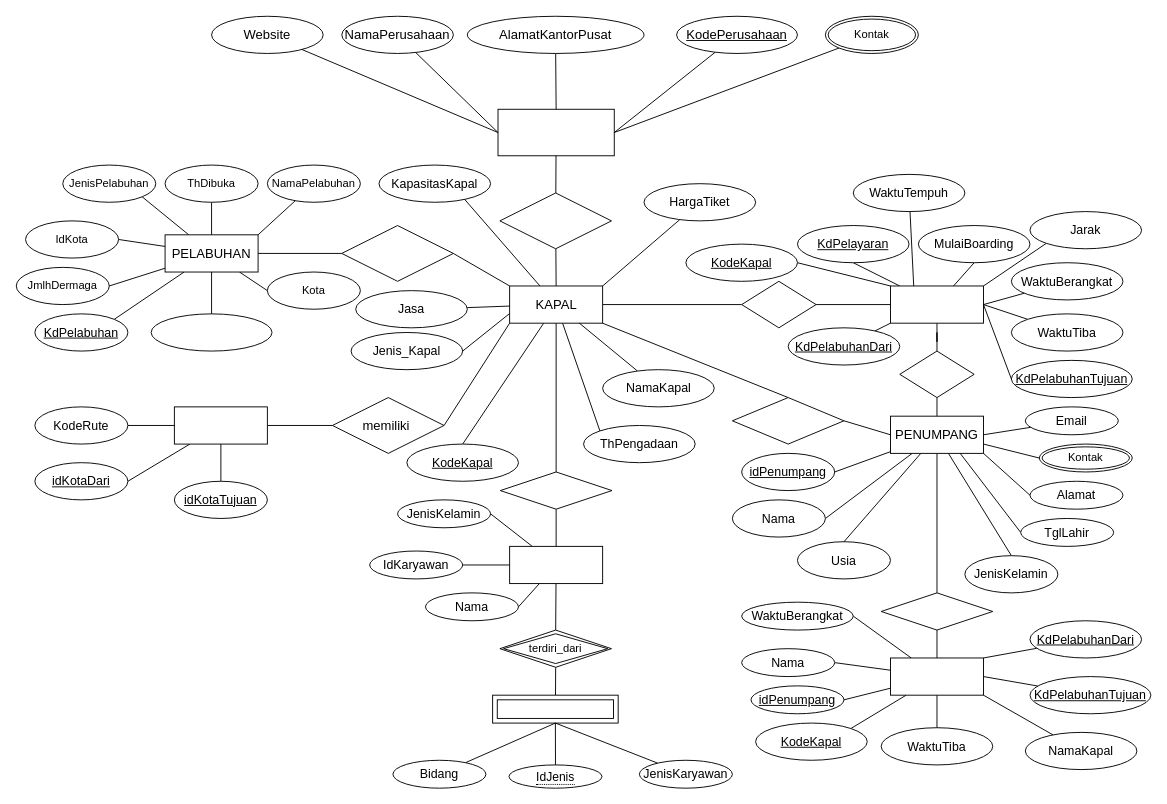
This 1167x804 diagram has some shape labels left out. The shapes that lost their labels are listed below. From the top down, each one's centre as x and y in pixels, then its label:
the point at 555,132: PERUSAHAAN
the point at 555,220: menaungi
the point at 397,253: bertujuan
the point at 778,304: berdasar
the point at 936,304: JADWAL
the point at 211,332: KapasitasPelabuhan
the point at 936,374: mengikuti
the point at 220,425: RUTE
the point at 787,420: digunakan
the point at 555,490: Relationship
the point at 556,564: KARYAWAN
the point at 936,611: memesan
the point at 936,676: TIKET
the point at 555,708: JENIS_KARYAWAN
